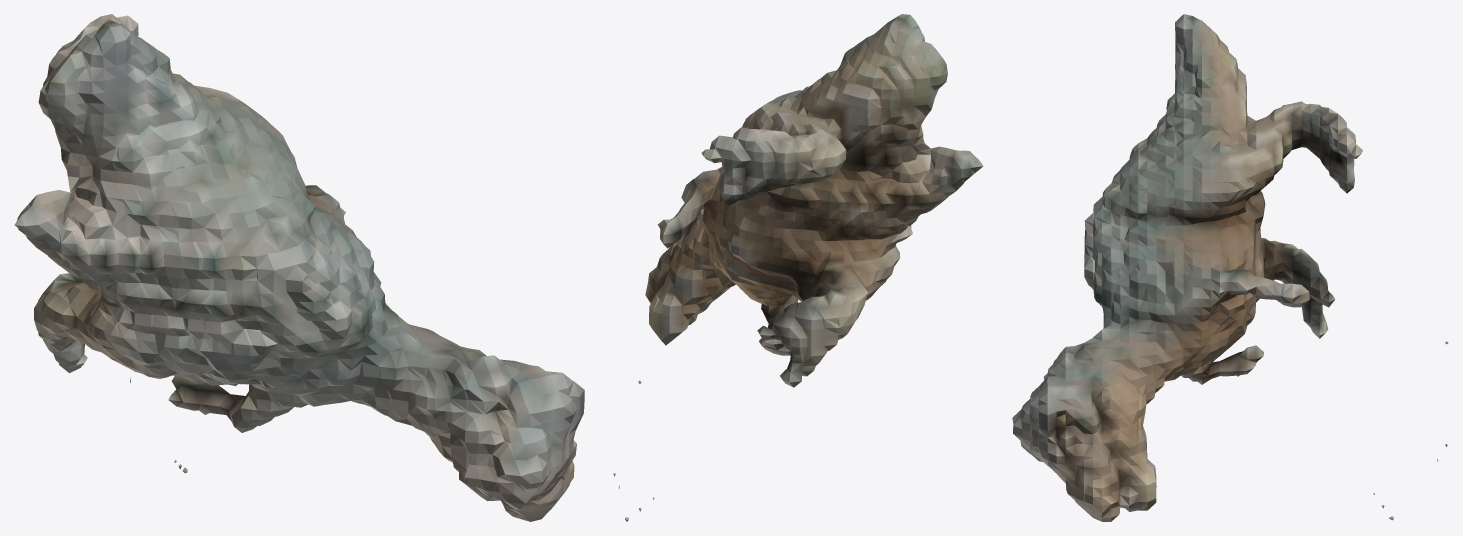
3 renders of one model, left to right at view 1: azimuth 30°, elevation 25°; view 2: azimuth 150°, elevation 25°; view 3: azimuth 270°, elevation 25°, orthographic. The views are drawn at different scales.
Parts seen in each view (by area): view 1: world; view 2: world; view 3: world.
Boxes of the visible parts, <box> form: world: <box>14,14,584,521</box>; world: <box>613,14,983,521</box>; world: <box>1012,14,1448,521</box>.
Size of the model in its own units: 0.6107 by 0.7162 by 0.6591.
